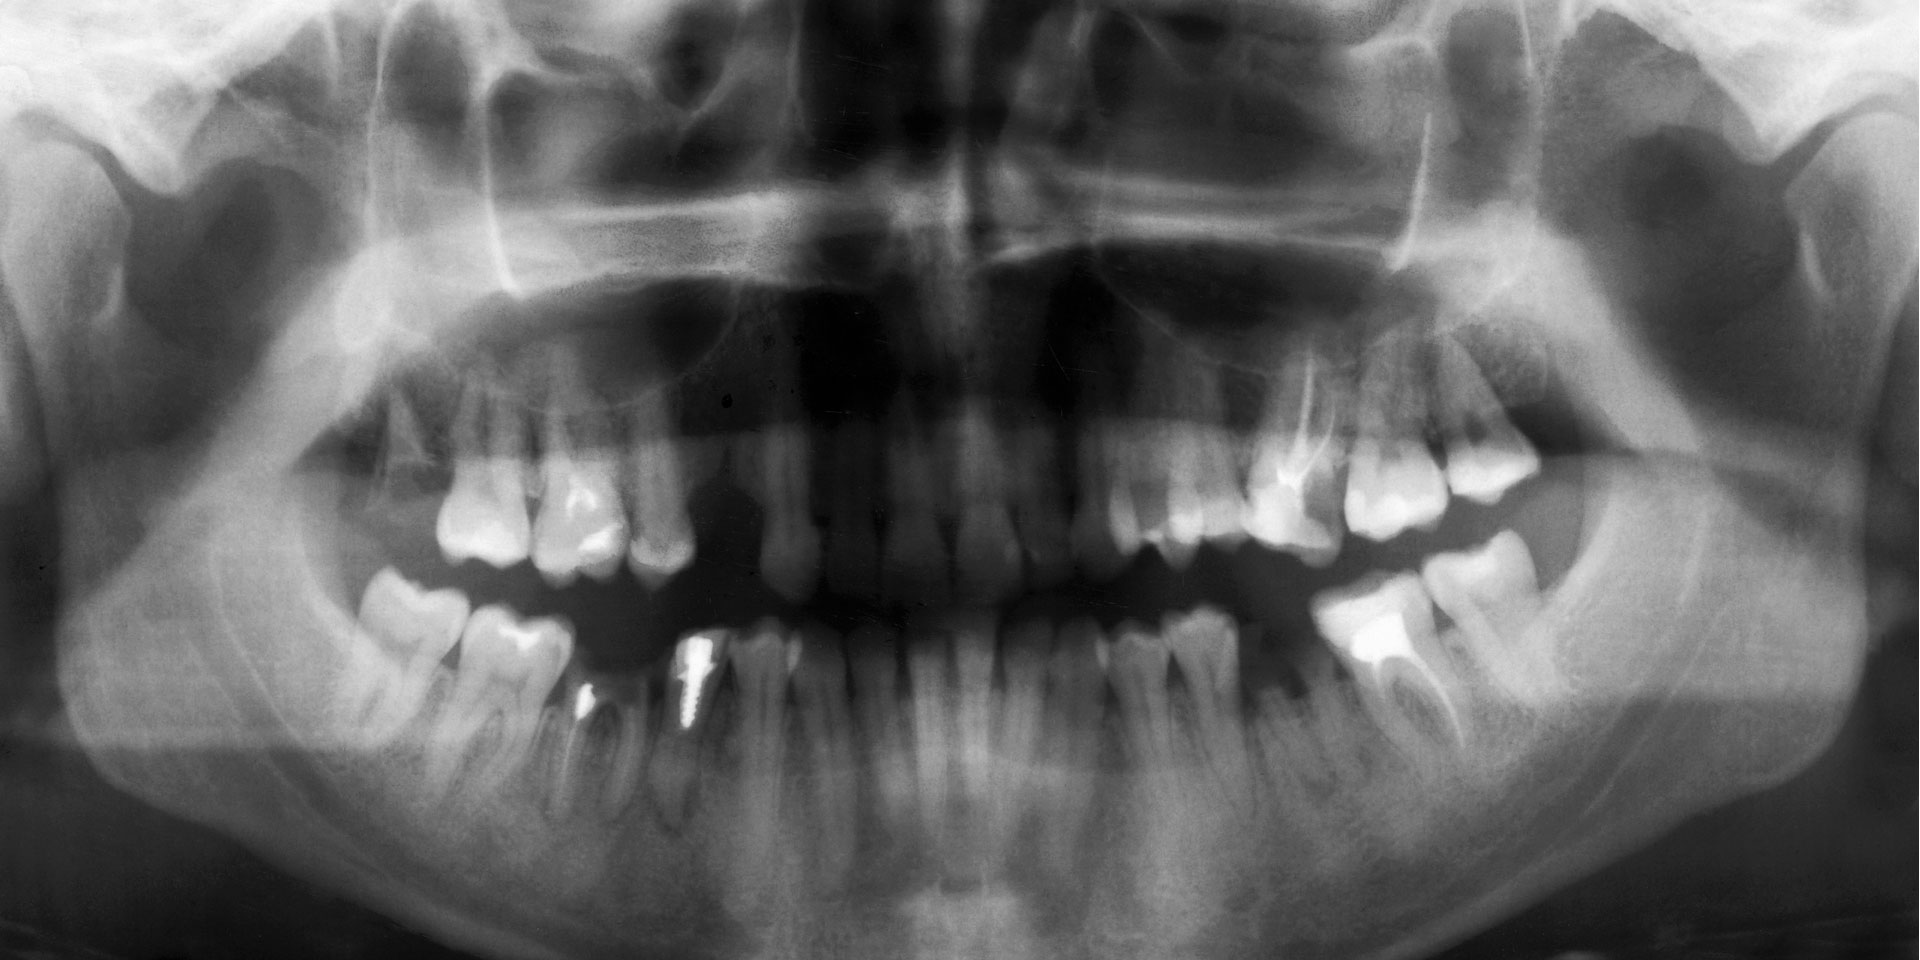canine: (784, 599, 846, 853), (1051, 598, 1109, 860)
incisor: (842, 601, 900, 849), (898, 600, 951, 851), (951, 598, 1002, 855), (1004, 598, 1051, 858)
molar: (1407, 519, 1607, 759), (418, 568, 579, 835), (1302, 561, 1487, 778), (311, 540, 479, 775), (425, 340, 545, 580), (527, 343, 638, 601), (1237, 337, 1347, 576), (1425, 296, 1543, 509), (1336, 340, 1453, 542), (1155, 310, 1245, 558), (618, 359, 707, 601)
premolar: (1082, 304, 1213, 578), (1156, 591, 1245, 868), (722, 589, 807, 860), (1096, 595, 1169, 862)
